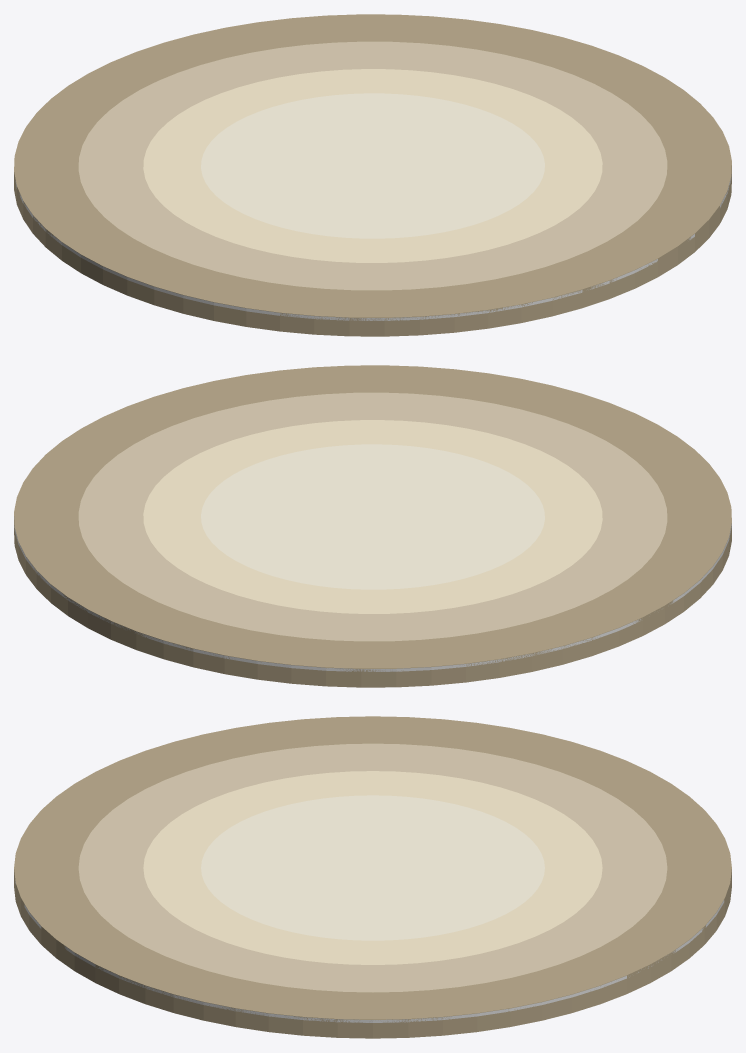
Rendered from ArenaFinal.fbx.
3 renders of one model, top to bottom at view 1: azimuth 30°, elevation 25°; view 2: azimuth 150°, elevation 25°; view 3: azimuth 270°, elevation 25°, orthographic.
Visible parts, largest first — view 1: Circle.014, Circle.013, Circle.015, Circle.012, Circle.008, Circle.011, Circle.009, Circle.010, Parent Mesh; view 2: Circle.011, Circle.012, Circle.010, Circle.013, Circle.009, Circle.014, Circle.008, Circle.015, Parent Mesh; view 3: Circle.008, Circle.009, Circle.010, Circle.015, Circle.012, Circle.013, Circle.011, Circle.014, Parent Mesh.
Part boxes in pixels (<box>): Circle.014: <box>280,166,552,336</box>; Circle.013: <box>62,166,372,331</box>; Circle.015: <box>373,166,719,315</box>; Circle.012: <box>14,126,372,260</box>; Circle.008: <box>374,90,731,223</box>; Circle.011: <box>26,34,372,165</box>; Circle.009: <box>373,19,683,165</box>; Circle.010: <box>193,14,465,165</box>; Parent Mesh: <box>15,174,731,320</box>; Circle.011: <box>193,517,465,687</box>; Circle.012: <box>373,517,683,682</box>; Circle.010: <box>26,517,372,666</box>; Circle.013: <box>373,477,731,611</box>; Circle.009: <box>14,441,371,574</box>; Circle.014: <box>373,385,719,516</box>; Circle.008: <box>62,370,372,516</box>; Circle.015: <box>280,365,552,516</box>; Parent Mesh: <box>14,517,731,671</box>; Circle.008: <box>119,868,372,1038</box>; Circle.009: <box>373,868,626,1038</box>; Circle.010: <box>373,868,731,993</box>; Circle.015: <box>14,868,372,993</box>; Circle.012: <box>373,716,626,867</box>; Circle.013: <box>119,716,372,867</box>; Circle.011: <box>374,761,731,867</box>; Circle.014: <box>14,761,371,867</box>; Parent Mesh: <box>15,881,724,1022</box>.
Size of the model in its own units: 200 by 5.8 by 200.
